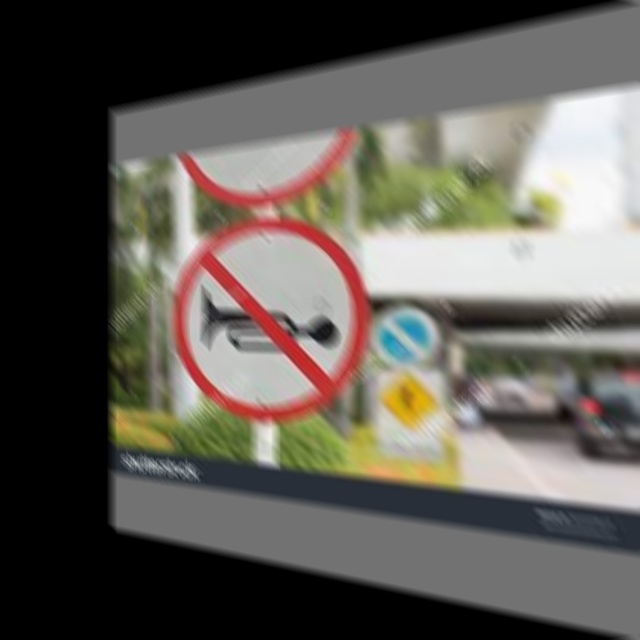Horn_Prohibited: (184, 213, 357, 422)
